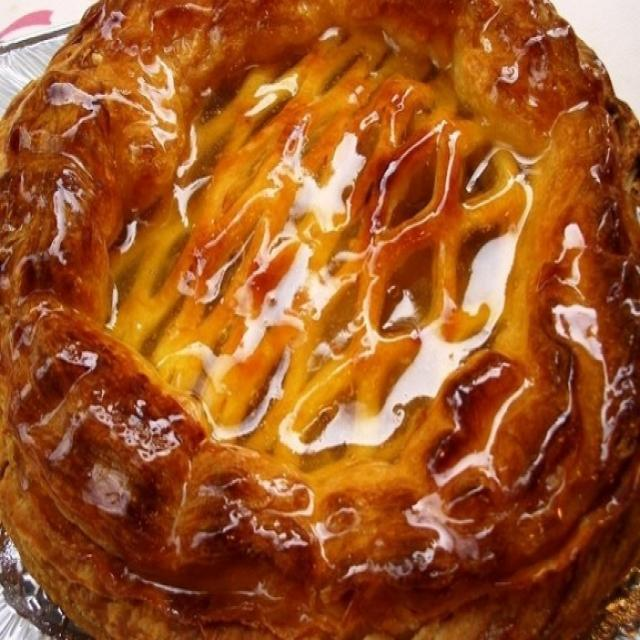Apple: (3, 2, 635, 634)
